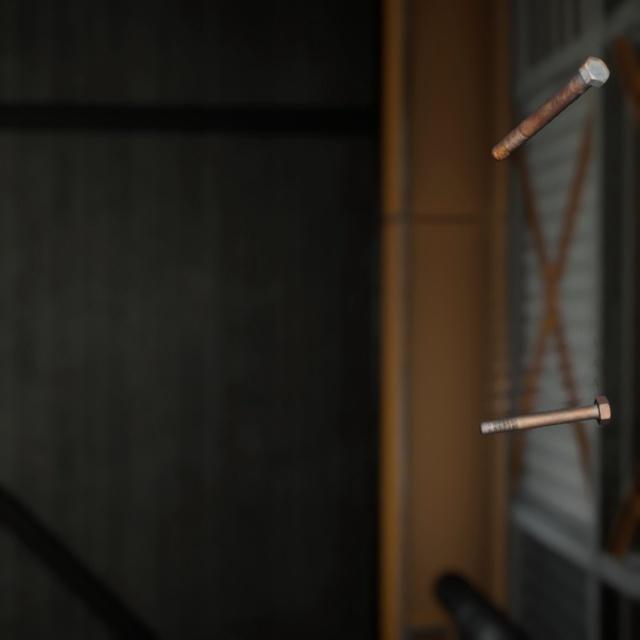bolt: (487, 39, 614, 153), (474, 371, 615, 419)
